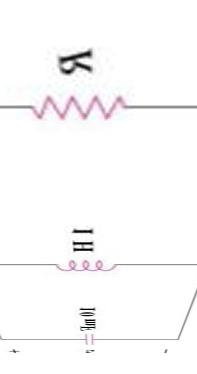inductor: (40, 251, 127, 281)
